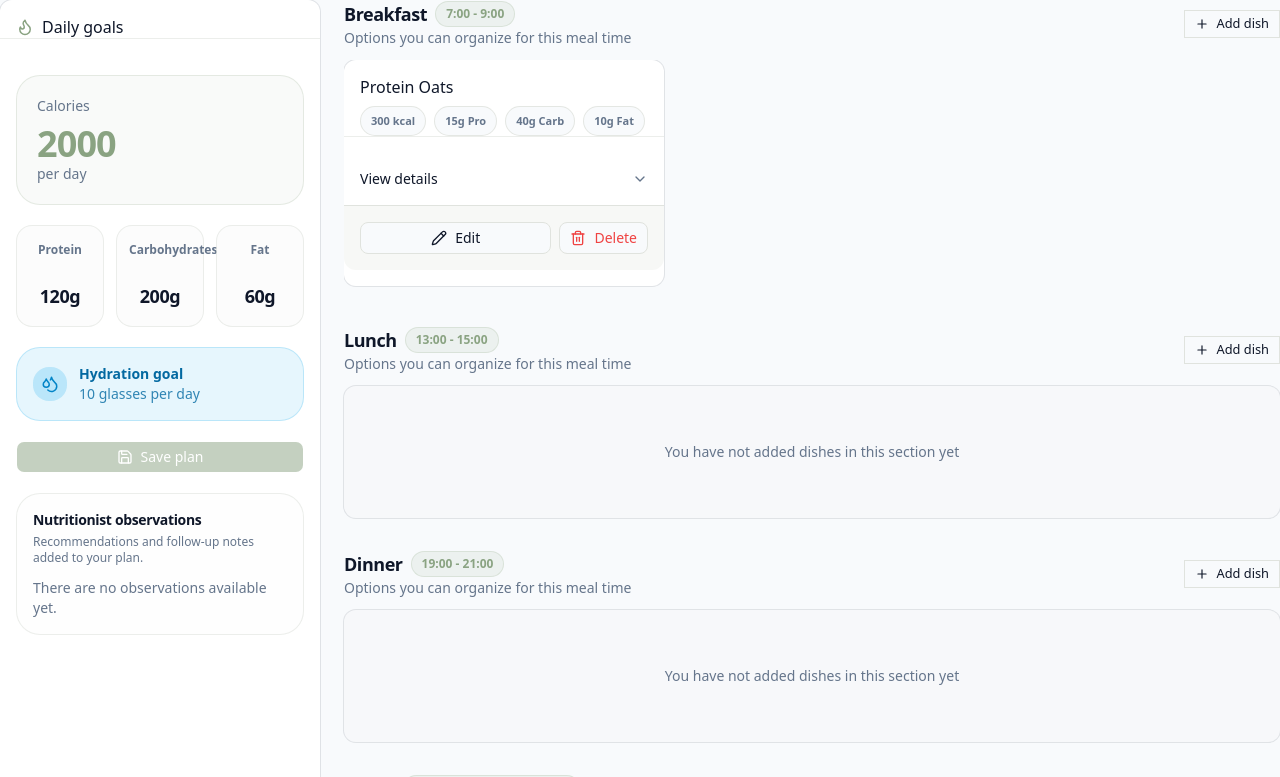
Scenario: NutritionPlanWorkspace › shows validation feedback when trying to save an empty dish
Click the button "Add dish" in the row of "7:00 - 9:00" at coordinates (1232, 24), box [1184,10,1279,38]
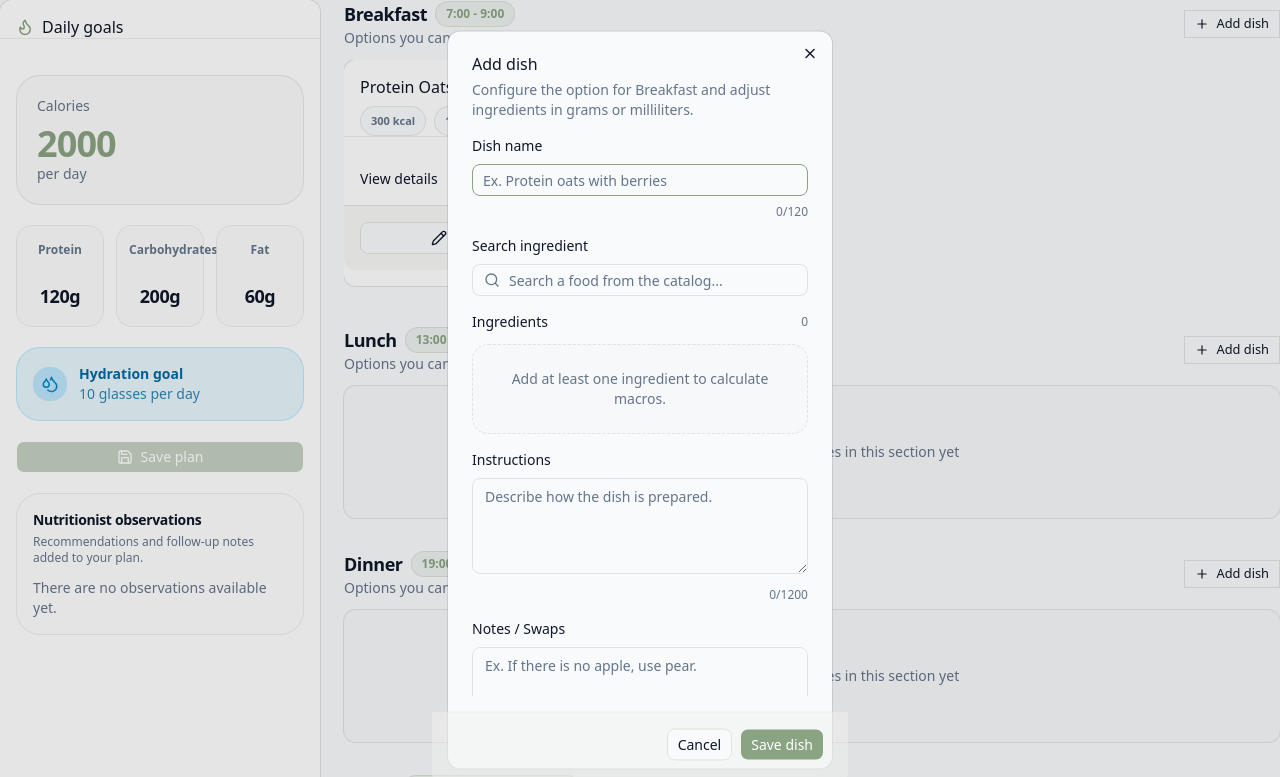
Click the button "Save dish" at coordinates (782, 744), box [740,728,824,760]
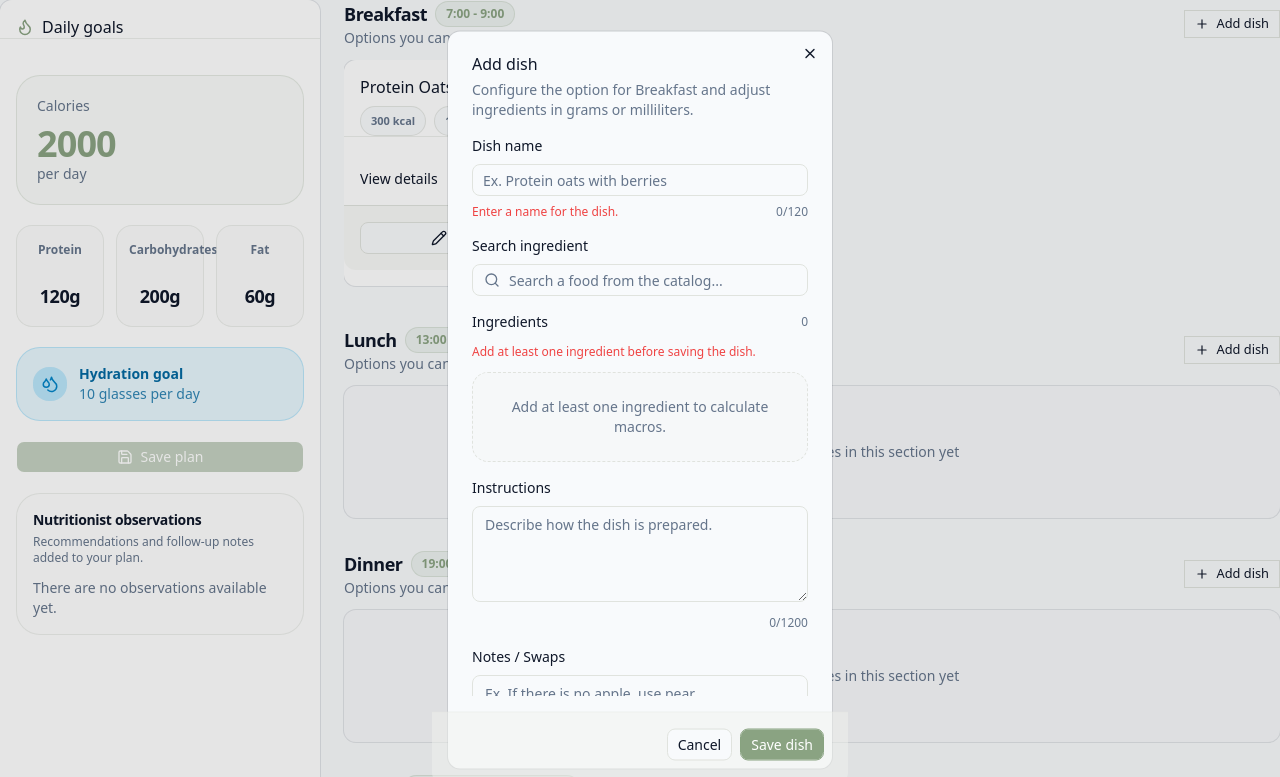
Expected: the text "Enter a name for the dish." is shown, [472,204,618,220]
Expected: the text "Add at least one ingredient before saving the dish." is shown, [472,342,756,360]
